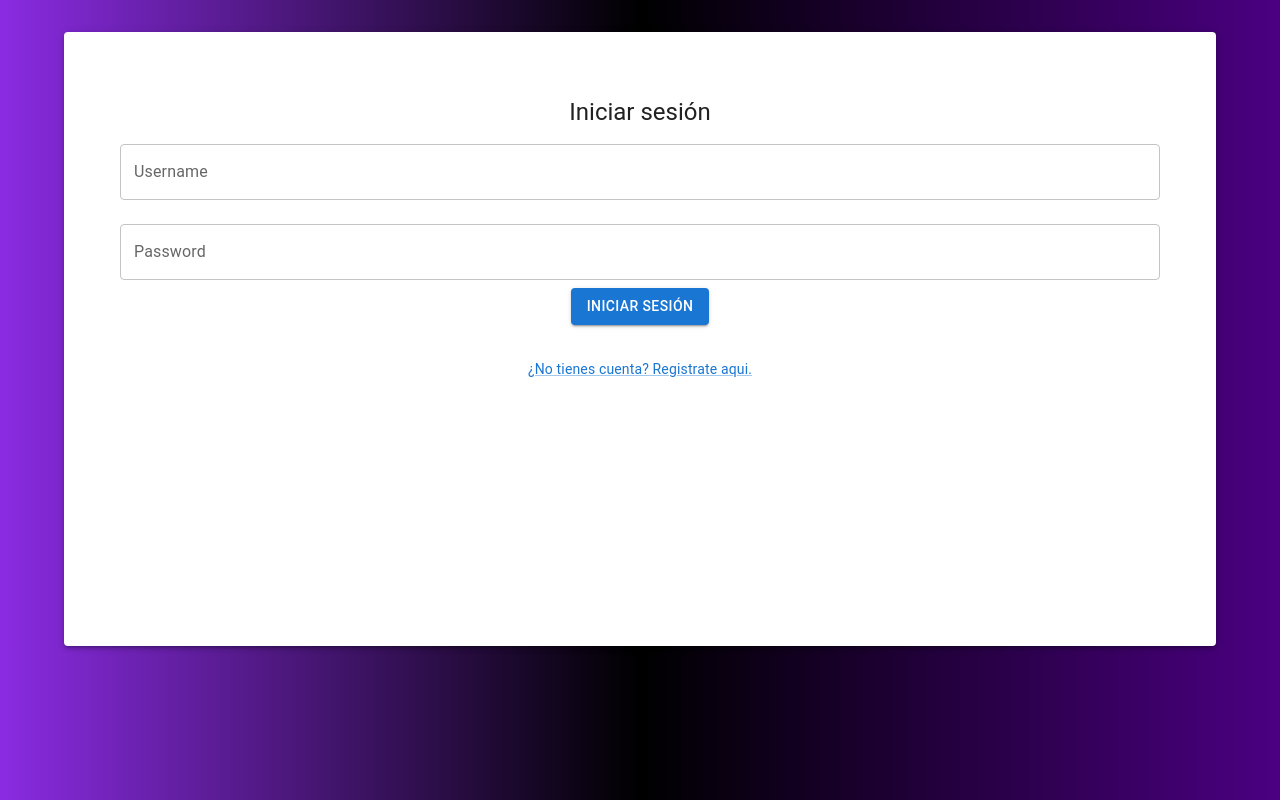
App › toggles view between login and register
Click the button "¿No tienes cuenta? Registrate aqui." at x=640, y=369, box [528,359,752,379]
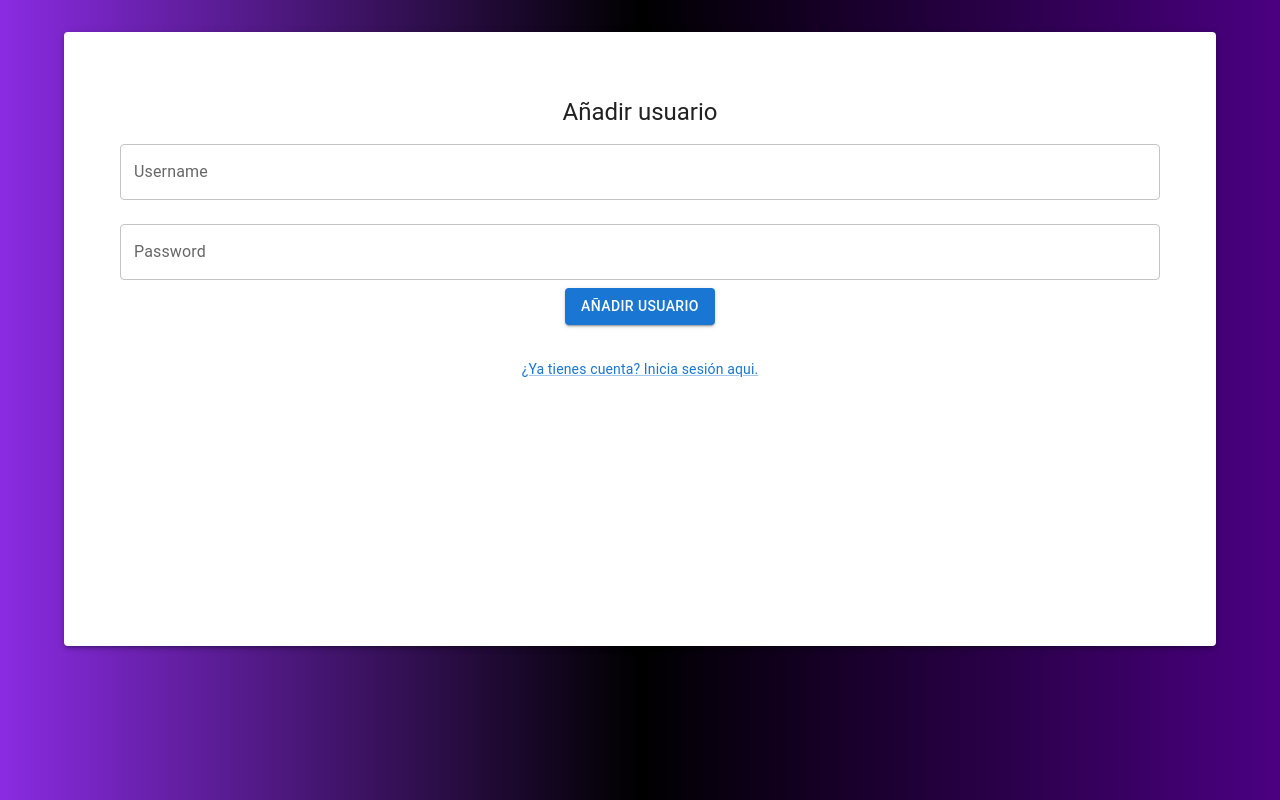
Check: the heading "Añadir usuario" is shown, box [562,98,718,126]
